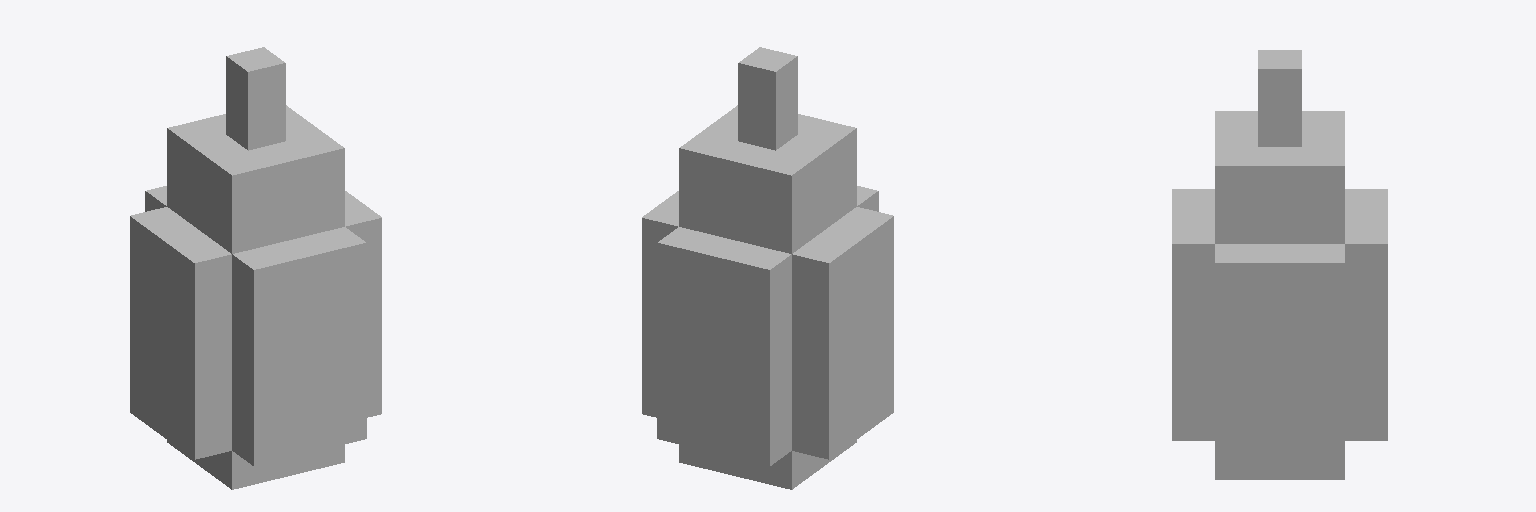
The model's file is 2_4 mamao.obj.
3 views of the same model, side by side, from view 1: azimuth 30°, elevation 25°; view 2: azimuth 150°, elevation 25°; view 3: azimuth 270°, elevation 25° (orthographic).
Parts seen in each view (by area): view 1: object 1; view 2: object 1; view 3: object 1.
Part boxes in pixels (x1,y1,x2,y2): object 1: (130, 47, 381, 489); object 1: (642, 47, 893, 489); object 1: (1172, 50, 1387, 479).
Size of the model in its own units: 0.5 by 1 by 0.5.